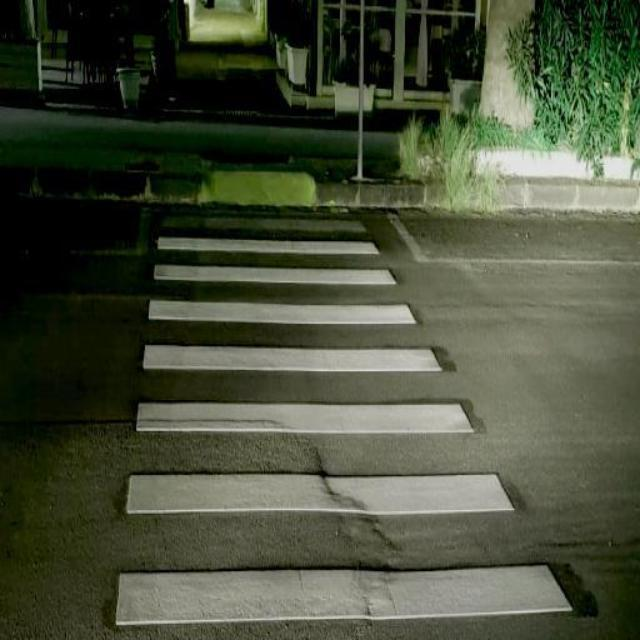sidewalk: (123, 214, 573, 624)
